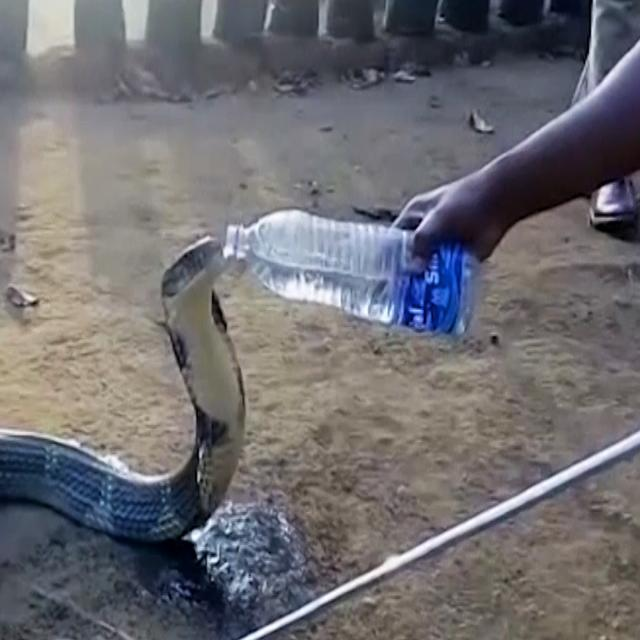Snake: (1, 233, 248, 544)
